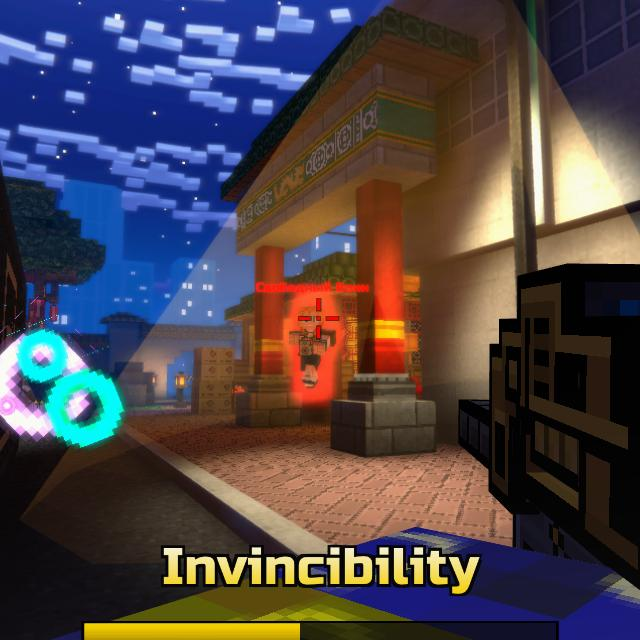Enemy: (287, 305, 336, 389)
